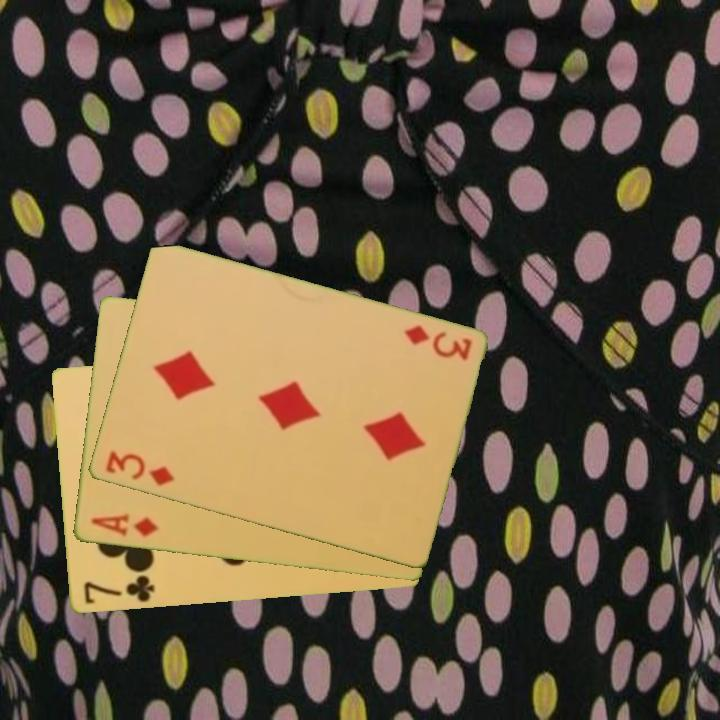3d: (101, 447, 177, 489), (399, 322, 475, 364)
7c: (80, 572, 157, 607)
Ad: (87, 510, 161, 540)
